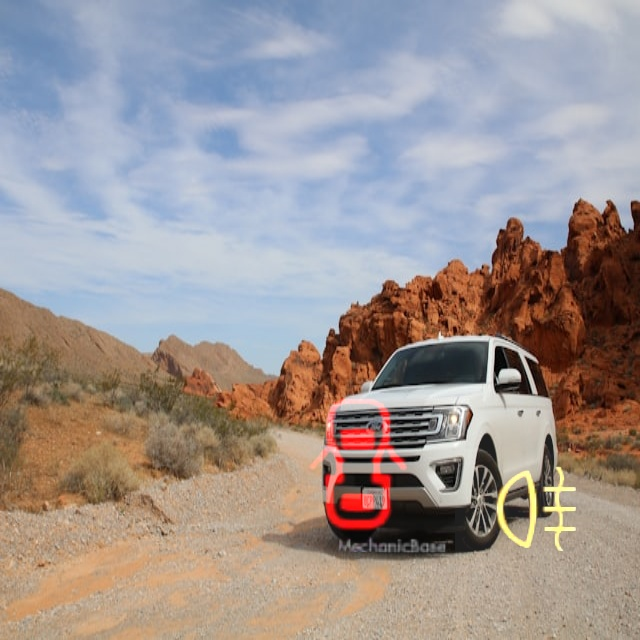symbol: (263, 372, 453, 562), (455, 427, 621, 593)
